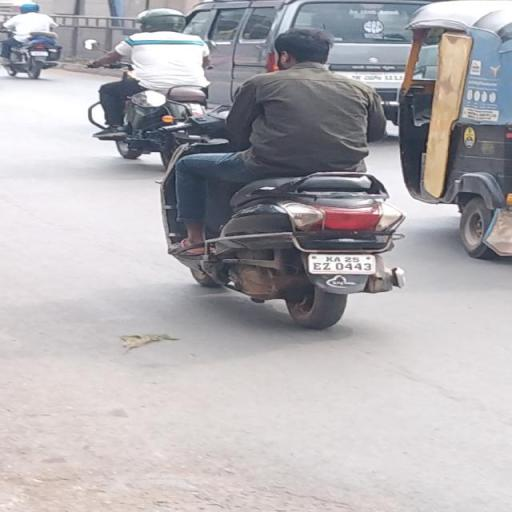bike: (149, 28, 424, 334)
numberplate: (310, 252, 380, 276)
withouthelmet: (276, 30, 332, 68)
